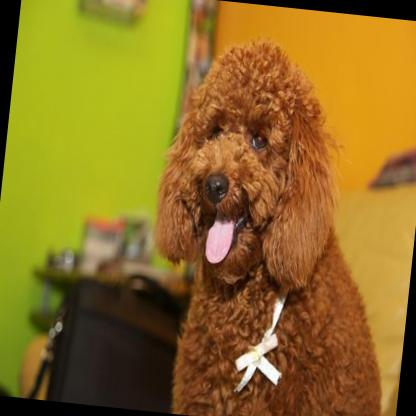toy_poodle: (136, 29, 416, 416)
